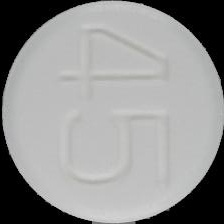0093-2046: (0, 0, 224, 224)
